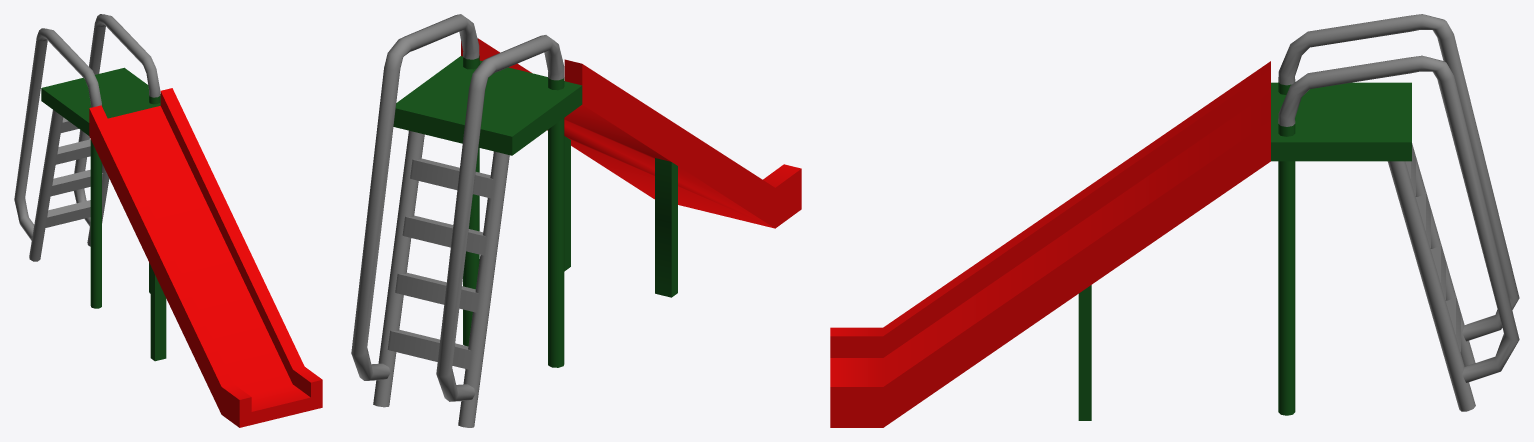
Rendered from Slide.fbx.
3 renders of one model, left to right at view 1: azimuth 30°, elevation 25°; view 2: azimuth 150°, elevation 25°; view 3: azimuth 270°, elevation 25°, orthographic. The views are drawn at different scales.
Parts seen in each view (by area): view 1: Slide; view 2: Slide; view 3: Slide.
Part boxes in pixels (x1,y1,x2,y2): Slide: (14,14,322,427); Slide: (351,14,801,427); Slide: (830,14,1519,427).
Size of the model in its own units: 4 by 11.38 by 19.58.
